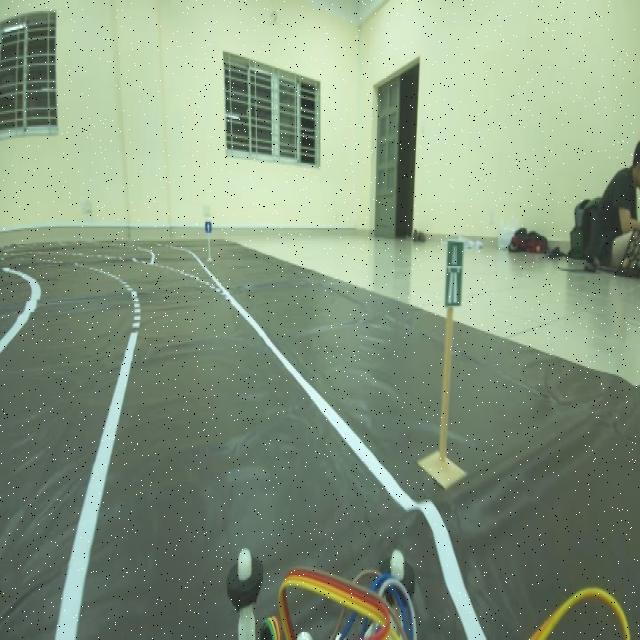highway_entry: (431, 231, 477, 317)
